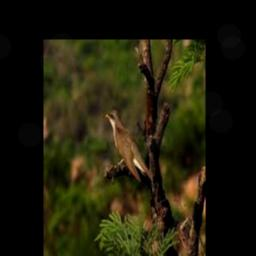Cuckoo: (105, 108, 152, 182)
